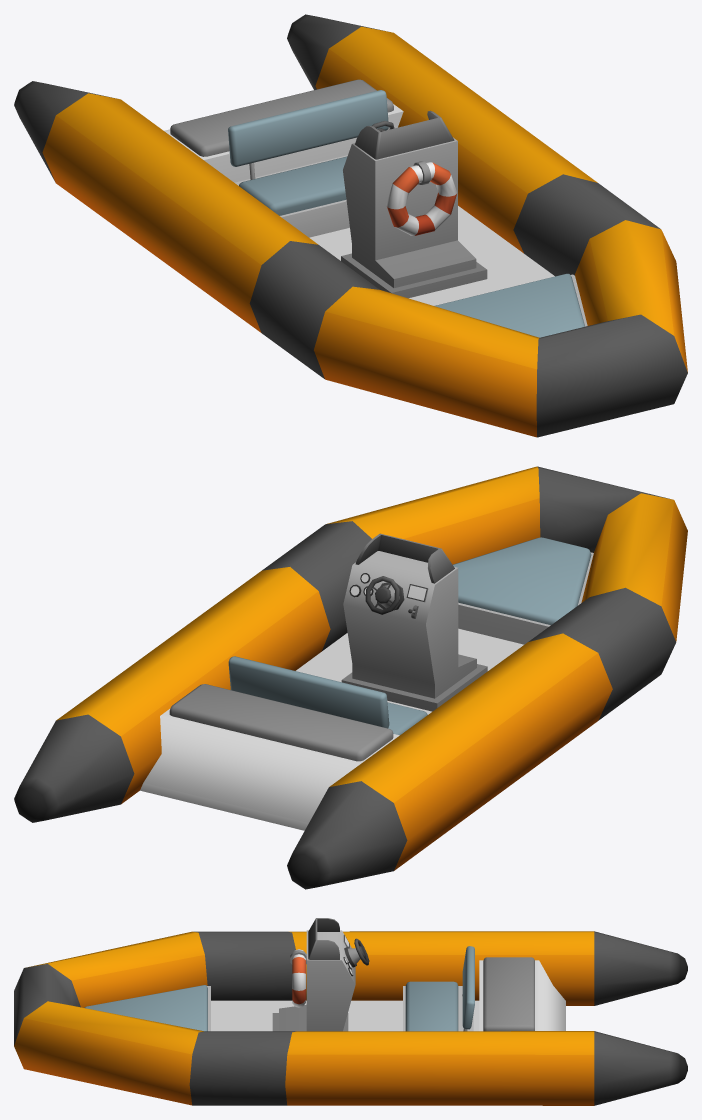
Rendered from motor boat.fbx.
The picture shows the model from 3 angles, top to bottom: view 1: azimuth 30°, elevation 25°; view 2: azimuth 150°, elevation 25°; view 3: azimuth 270°, elevation 25°; orthographic projection. The views are drawn at different scales.
Parts seen in each view (by area): view 1: motor_boat; view 2: motor_boat; view 3: motor_boat.
Boxes of the visible parts, x1=… form: motor_boat: x1=14, y1=14, x2=687, y2=437; motor_boat: x1=14, y1=466, x2=687, y2=889; motor_boat: x1=14, y1=918, x2=687, y2=1105.
Bounding box in the file's own units: 261 × 114 × 557.
Materials: 1 (1 with a texture image).
